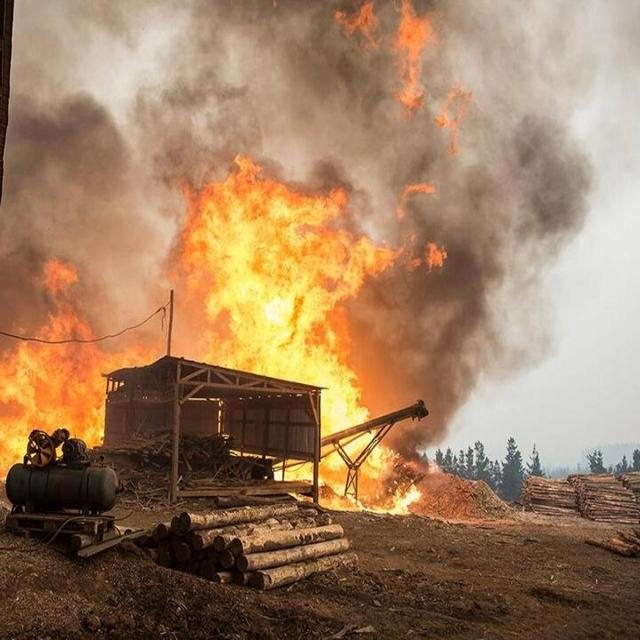fire: (187, 174, 361, 356), (17, 279, 99, 441), (1, 346, 17, 480)
